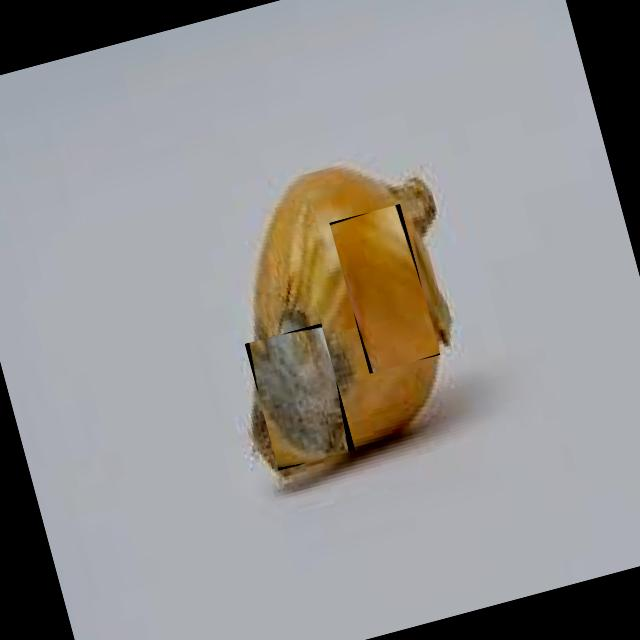healthy: (329, 203, 440, 373)
mould: (244, 323, 354, 470)
